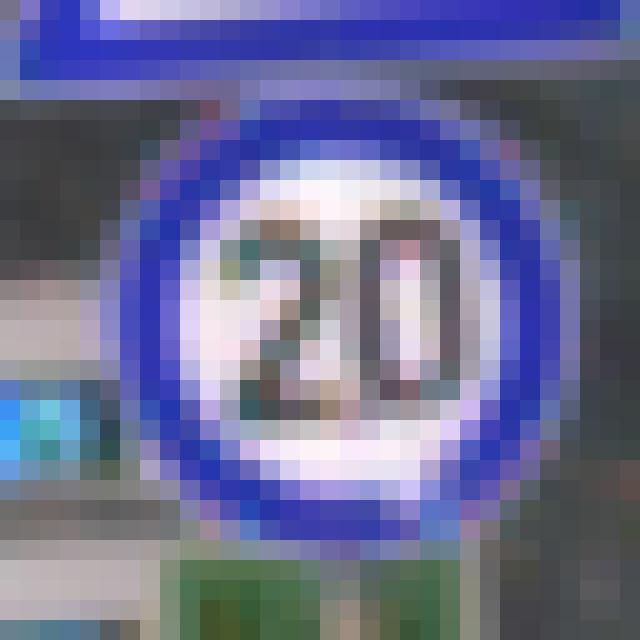SPEED LIMIT 20: (102, 102, 588, 534)
